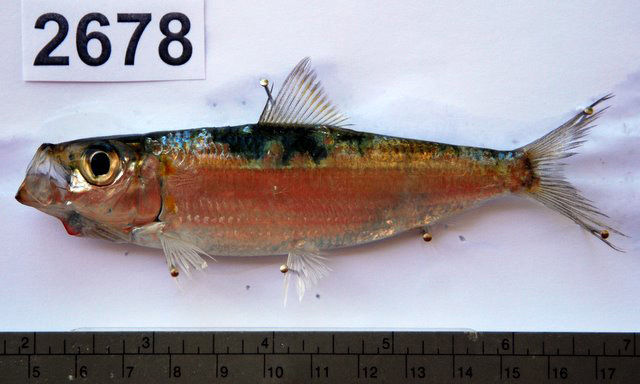fish: (15, 58, 634, 304)
